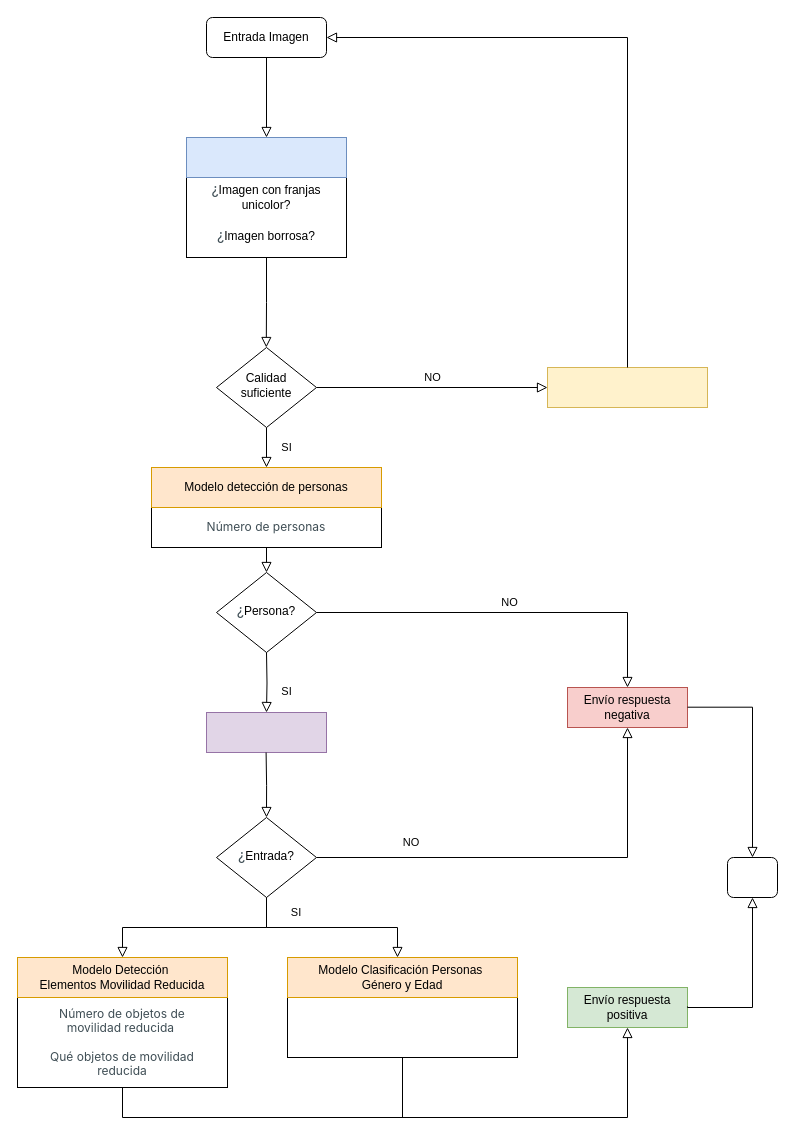
This 795x1145 diagram has some shape labels left out. Each missing label, with the box of its shape:
FIN: (726, 856, 778, 898)
Género Rango de edad: (286, 996, 518, 1058)
Intención: (206, 712, 326, 752)
Preprocesado de imagen: (186, 136, 346, 178)
Solicitar nueva imagen: (546, 366, 708, 408)
